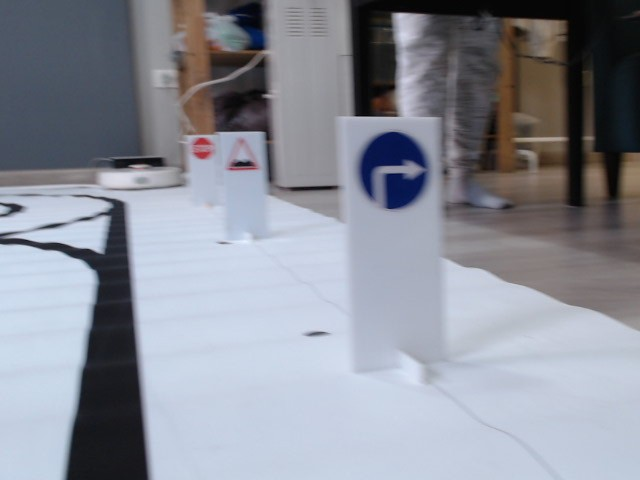Nerov: (224, 137, 260, 176)
Right: (356, 129, 429, 206)
